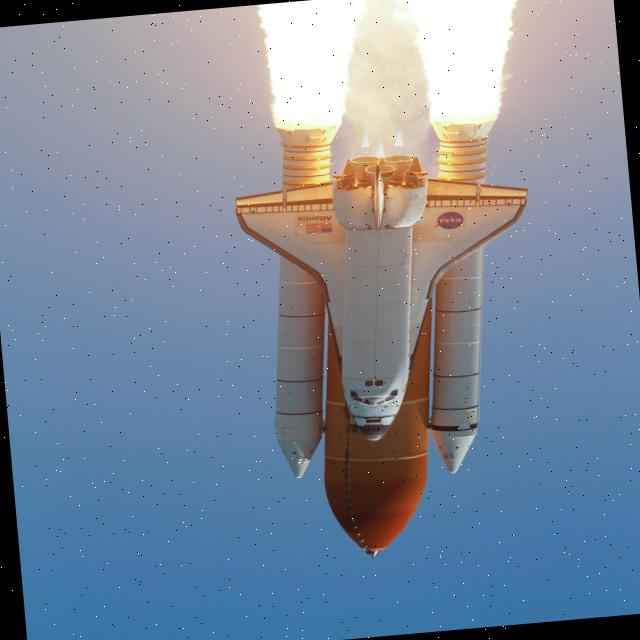rocket: (225, 125, 541, 451)
